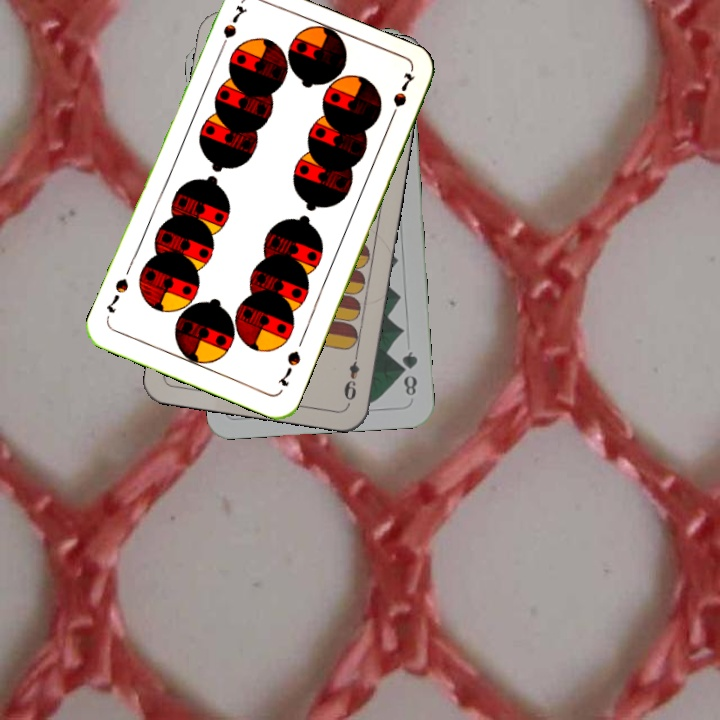E9: (340, 347, 362, 406)
G8: (397, 347, 421, 399)
S7: (214, 1, 250, 56), (273, 347, 303, 389)
